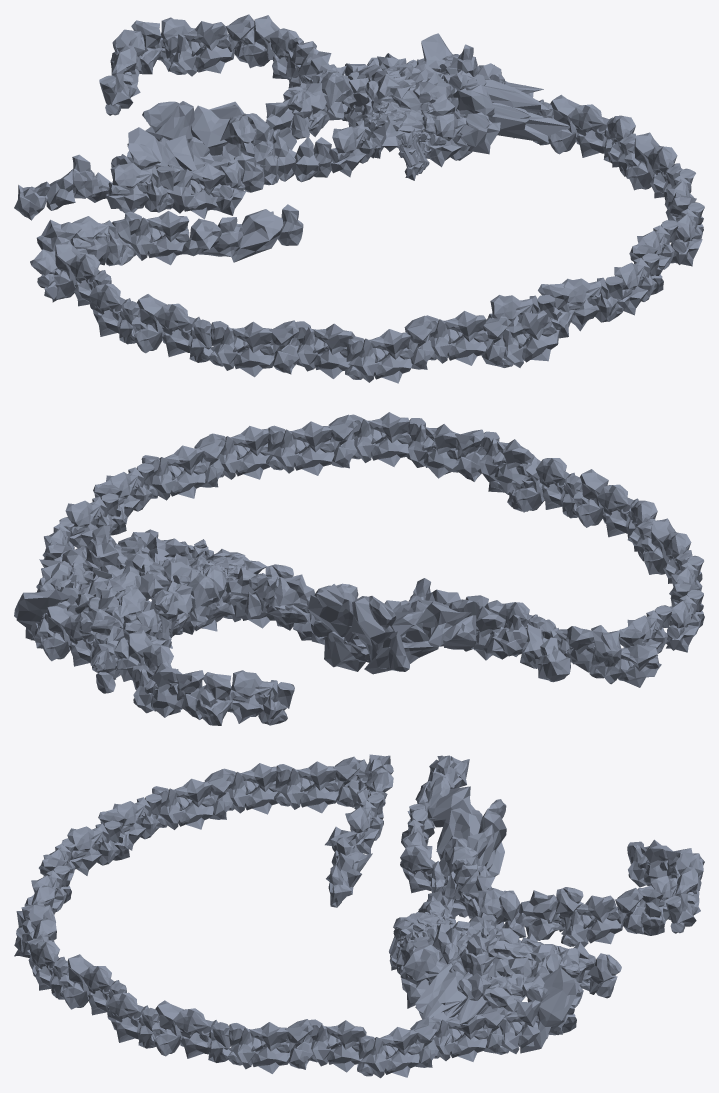
The model's file is Cliffs.glb.
The picture shows the model from 3 angles, top to bottom: view 1: azimuth 30°, elevation 25°; view 2: azimuth 150°, elevation 25°; view 3: azimuth 270°, elevation 25°; orthographic projection. The views are drawn at different scales.
Visible parts, largest first — view 1: cliff_group_01.006, cliff_group_01.044, cliff_group_01.036, cliff_group_01.008, cliff_group_01.002, cliff_group_01.037, cliff_group_01.015, cliff_group_01.035, cliff_group_01.058, cliff_group_01.038, cliff_group_01.032, cliff_group_01.012 (+59 smaller); view 2: cliff_group_01.006, cliff_group_01.058, cliff_group_01.029, cliff_group_01.007, cliff_group_01, cliff_group_01.030, cliff_group_01.028, cliff_group_01.032, cliff_group_01.031, cliff_group_01.027, cliff_group_01.001, cliff_group_01.013 (+52 smaller); view 3: cliff_group_01.058, cliff_group_01.041, cliff_group_01.025, cliff_group_01.044, cliff_group_01.024, cliff_group_01.040, cliff_group_01.003, cliff_group_01.005, cliff_group_01.026, cliff_group_01.028, cliff_01.012, cliff_group_01.038 (+49 smaller).
Boxes of the visible parts, x1,y1,x2,y2 form: cliff_group_01.006: [142, 101, 262, 190]; cliff_group_01.044: [428, 77, 569, 143]; cliff_group_01.036: [345, 329, 413, 383]; cliff_group_01.008: [105, 163, 174, 213]; cliff_group_01.002: [162, 21, 235, 76]; cliff_group_01.037: [209, 321, 275, 377]; cliff_group_01.015: [124, 211, 189, 265]; cliff_group_01.035: [425, 311, 488, 365]; cliff_group_01.058: [111, 127, 204, 170]; cliff_group_01.038: [293, 321, 355, 378]; cliff_group_01.032: [562, 276, 623, 331]; cliff_group_01.012: [71, 216, 133, 266]; cliff_group_01.006: [308, 584, 409, 671]; cliff_group_01.058: [360, 599, 479, 674]; cliff_group_01.029: [266, 421, 334, 475]; cliff_group_01.007: [244, 574, 314, 625]; cliff_group_01: [227, 670, 294, 725]; cliff_group_01.030: [350, 412, 411, 466]; cliff_group_01.028: [141, 445, 206, 500]; cliff_group_01.032: [406, 418, 460, 478]; cliff_group_01.031: [479, 431, 534, 493]; cliff_group_01.027: [209, 426, 271, 479]; cliff_group_01.001: [131, 662, 183, 717]; cliff_group_01.013: [589, 644, 661, 687]; cliff_group_01.058: [425, 777, 504, 876]; cliff_group_01.041: [273, 761, 339, 813]; cliff_group_01.025: [228, 1022, 290, 1073]; cliff_group_01.044: [415, 946, 502, 1045]; cliff_group_01.024: [357, 1027, 420, 1078]; cliff_group_01.040: [152, 778, 214, 829]; cliff_group_01.003: [559, 895, 623, 947]; cliff_group_01.005: [519, 887, 583, 940]; cliff_group_01.026: [307, 1019, 366, 1072]; cliff_group_01.028: [175, 1008, 231, 1062]; cliff_01.012: [520, 967, 580, 1053]; cliff_group_01.038: [67, 820, 120, 875].
Bounding box in the file's own units: 184 × 32.83 × 194.
